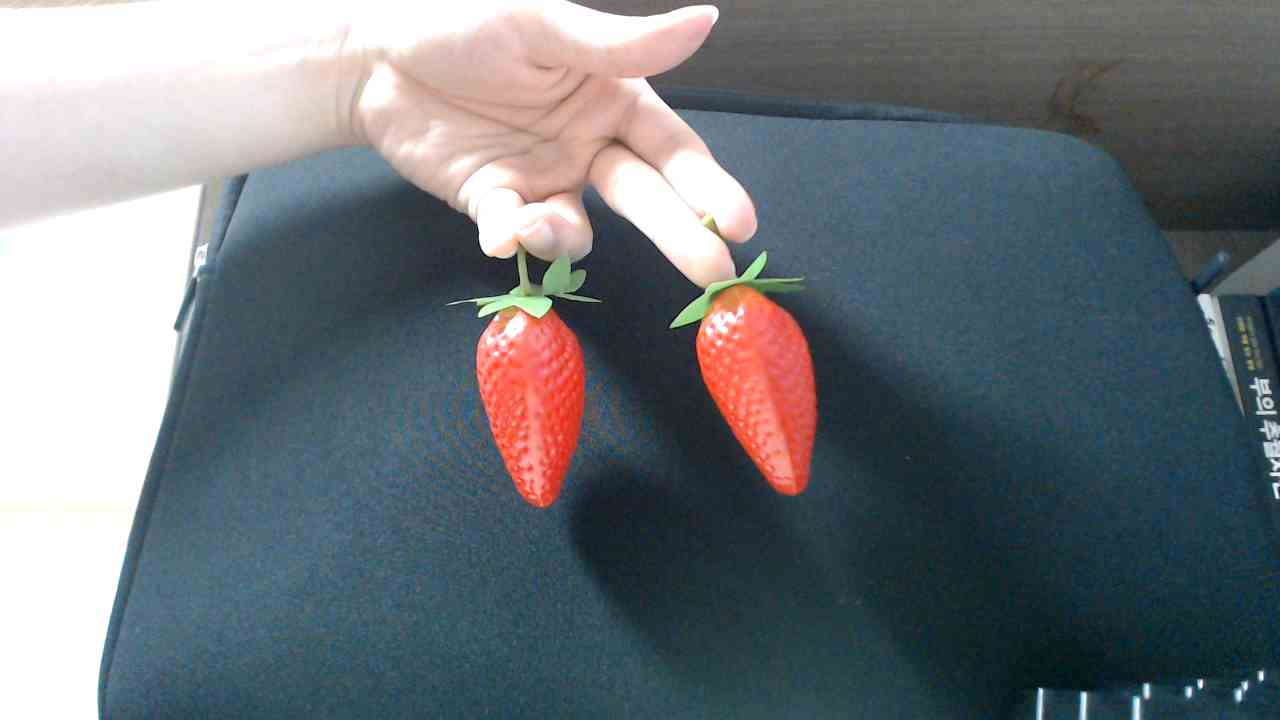strawberry: (676, 277, 832, 497), (459, 286, 593, 512)
